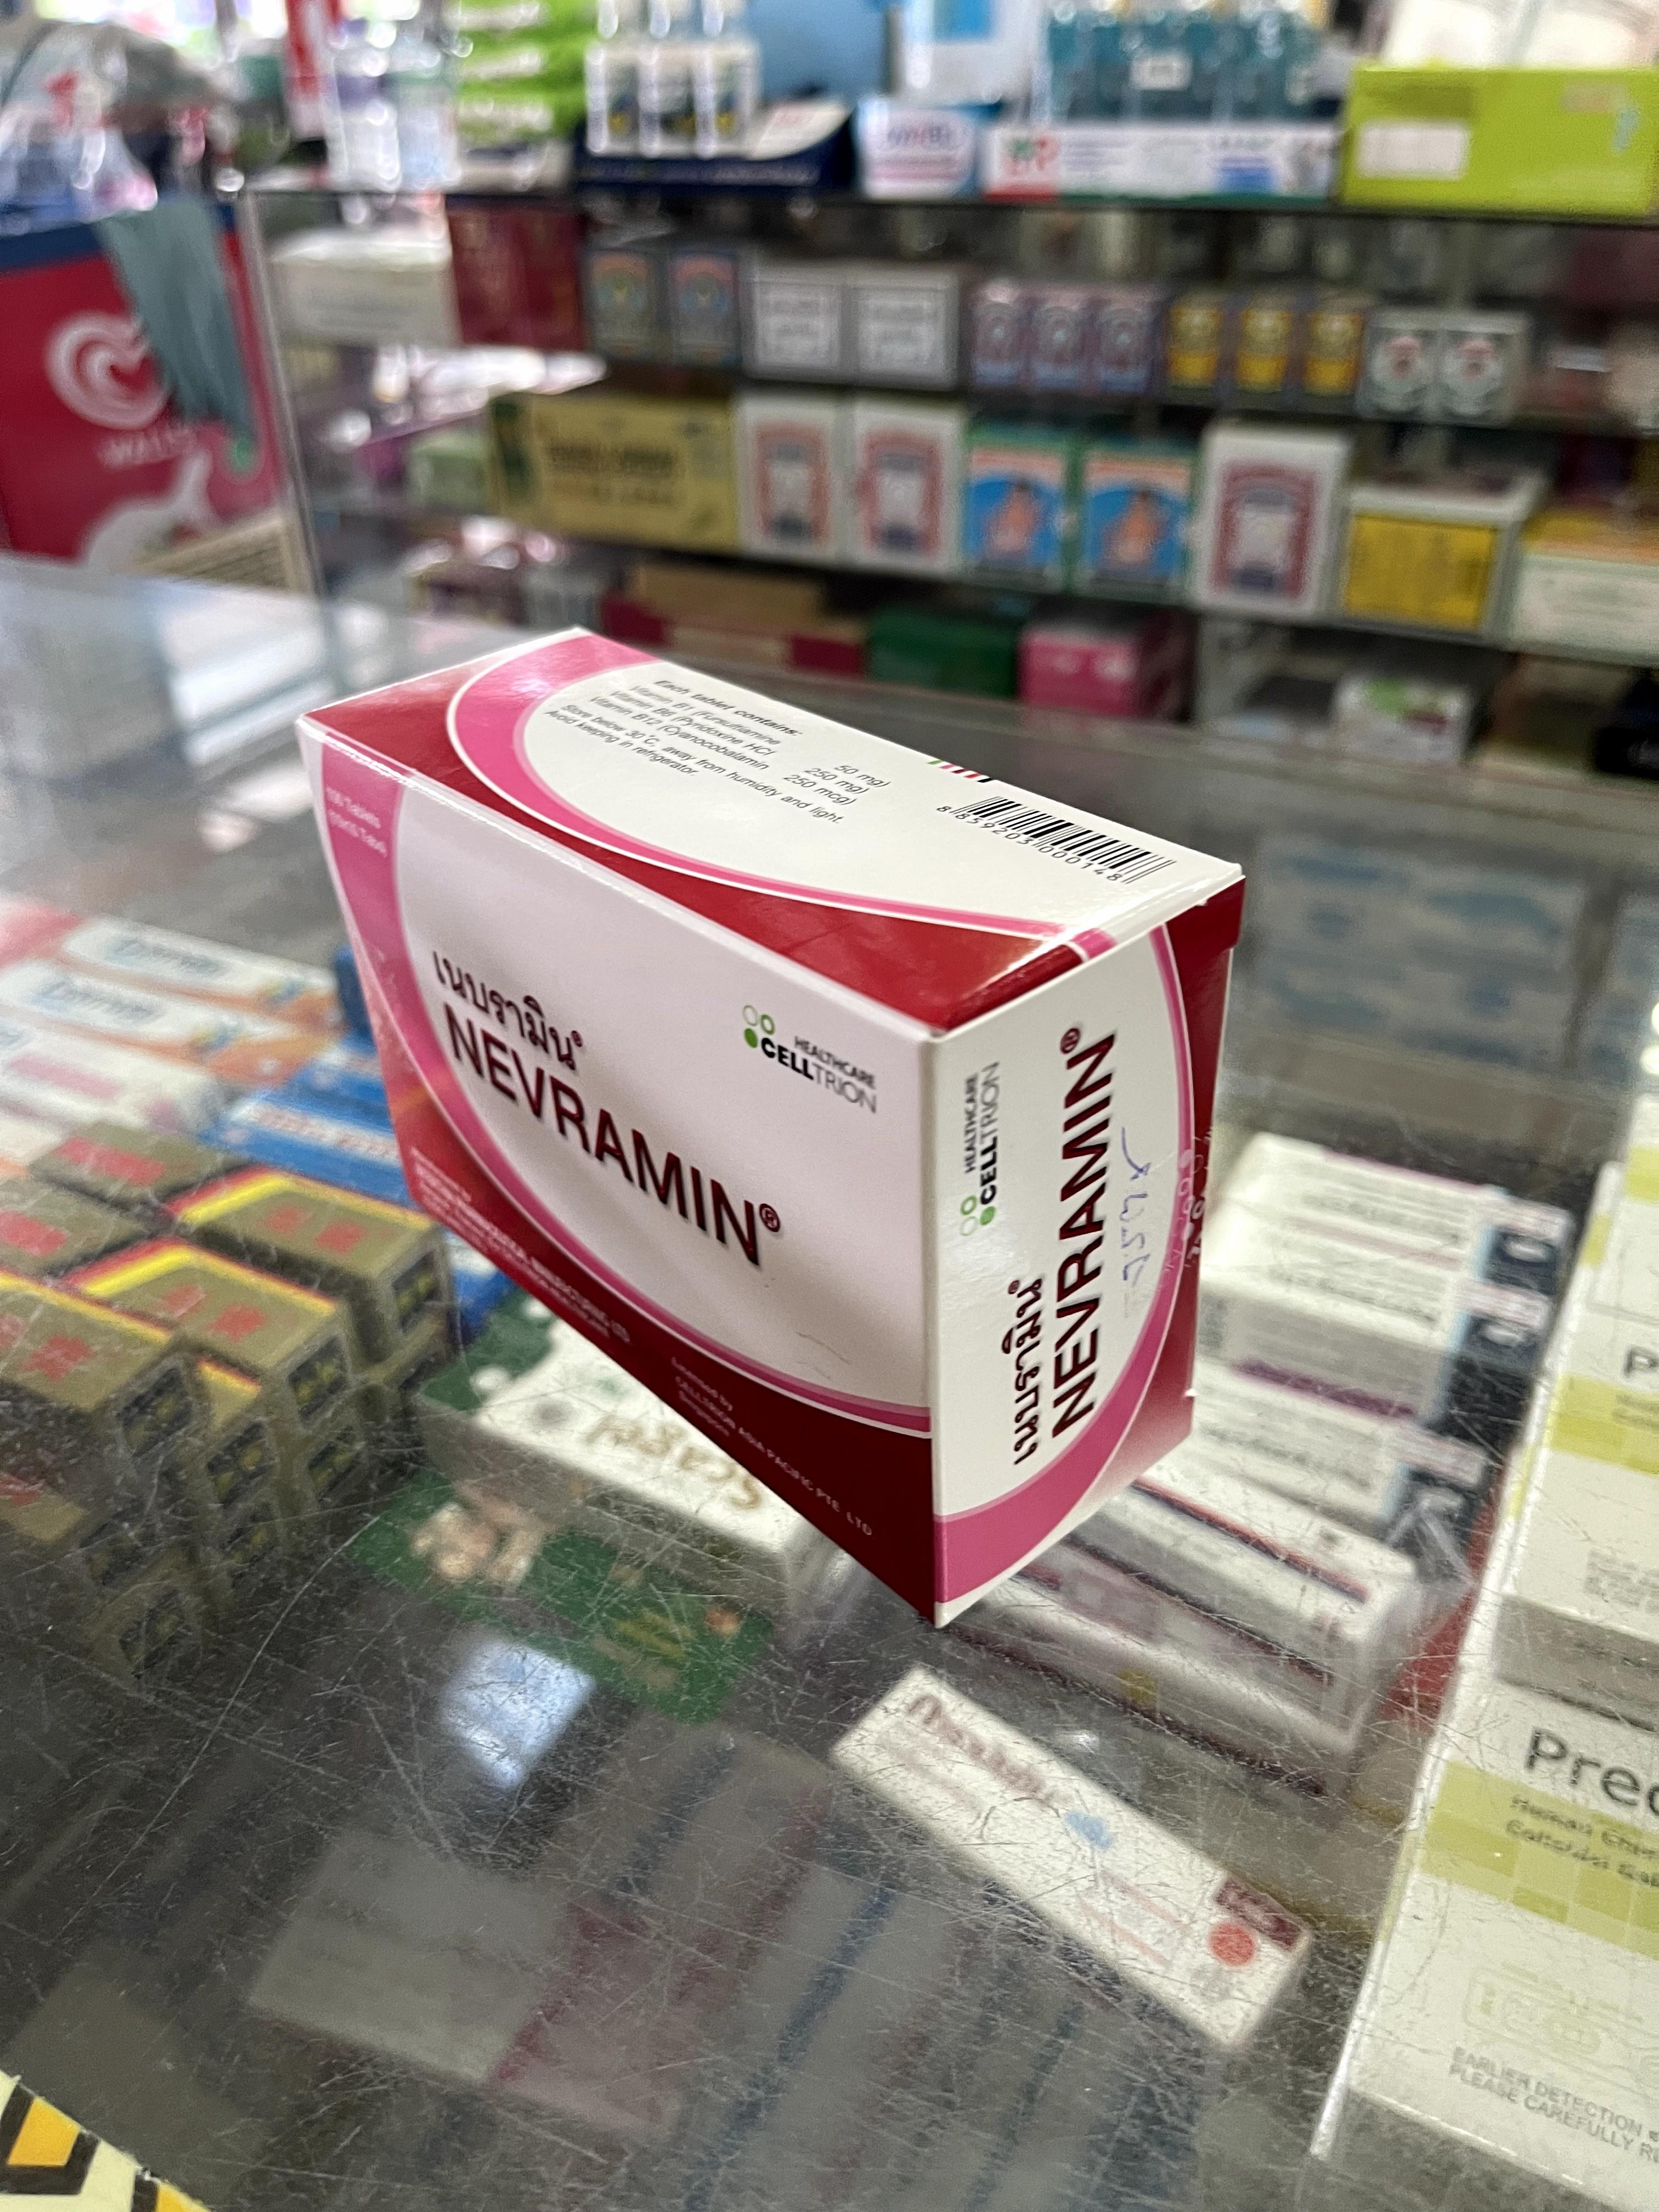Nevramin: (310, 631, 1237, 1623)
